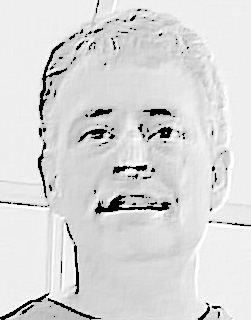nose_M_C: (107, 130, 160, 186)
